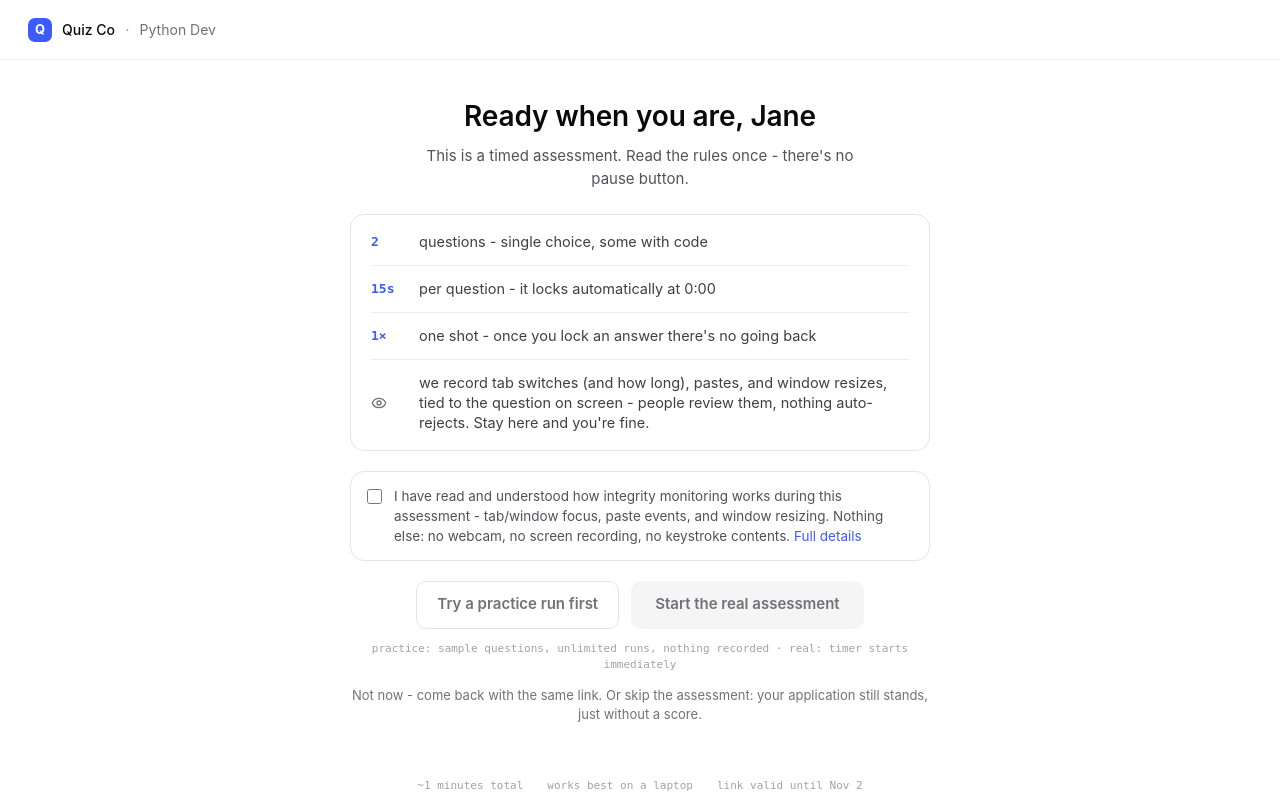
Scenario: QuizPage › shows the start gate with the rules, then serves a question
Expected: the heading "Ready when you are, Jane" is shown, [464,99,816,133]
Expected: the text "no pause button" is shown, [426,146,854,188]
Click the checkbox. click: x=374, y=496
box: [367,489,382,504]
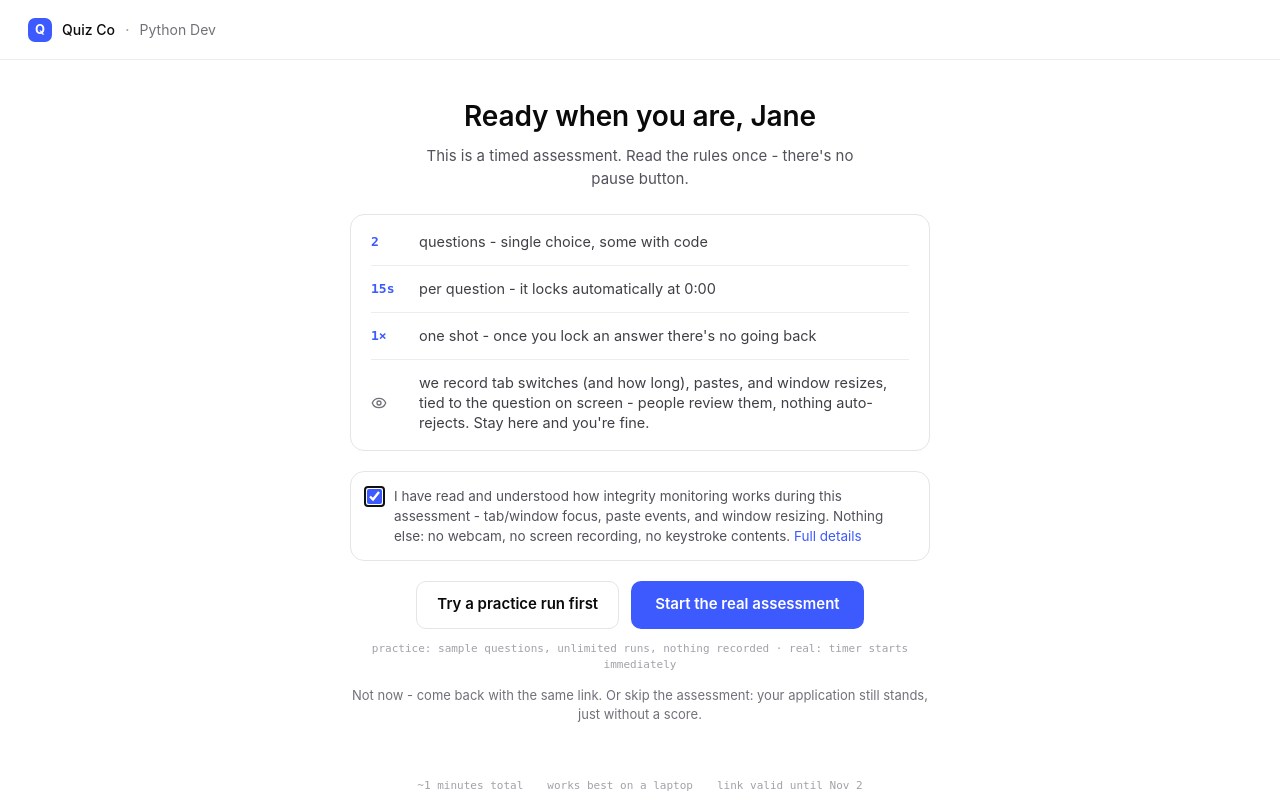
Click the button "Start the real assessment". click: x=747, y=605
box: [631,581,864,629]
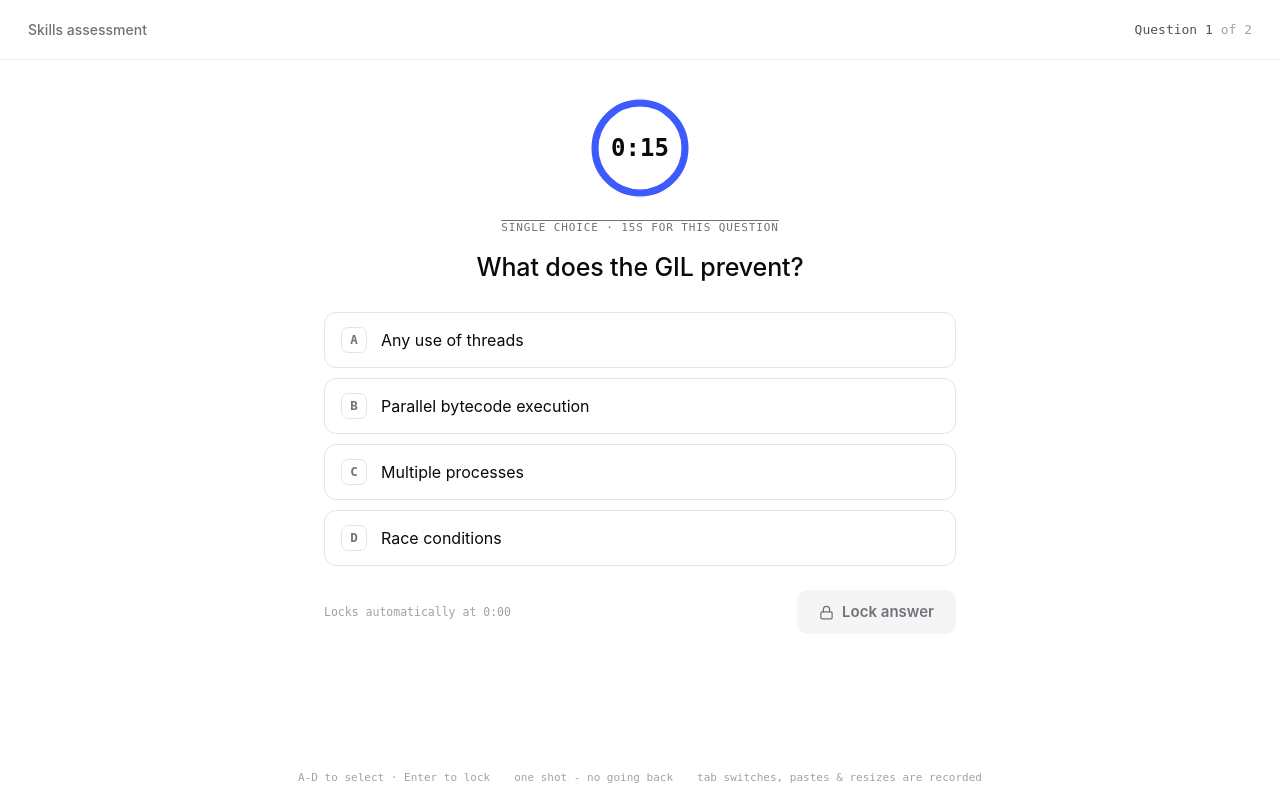
Result: the text "Question 1 of 2" is shown at [1135,21,1252,38]
Result: the heading "What does the GIL prevent?" is shown at [476,250,804,284]
Result: the button "A Any use of threads" is shown at [324,312,956,368]
